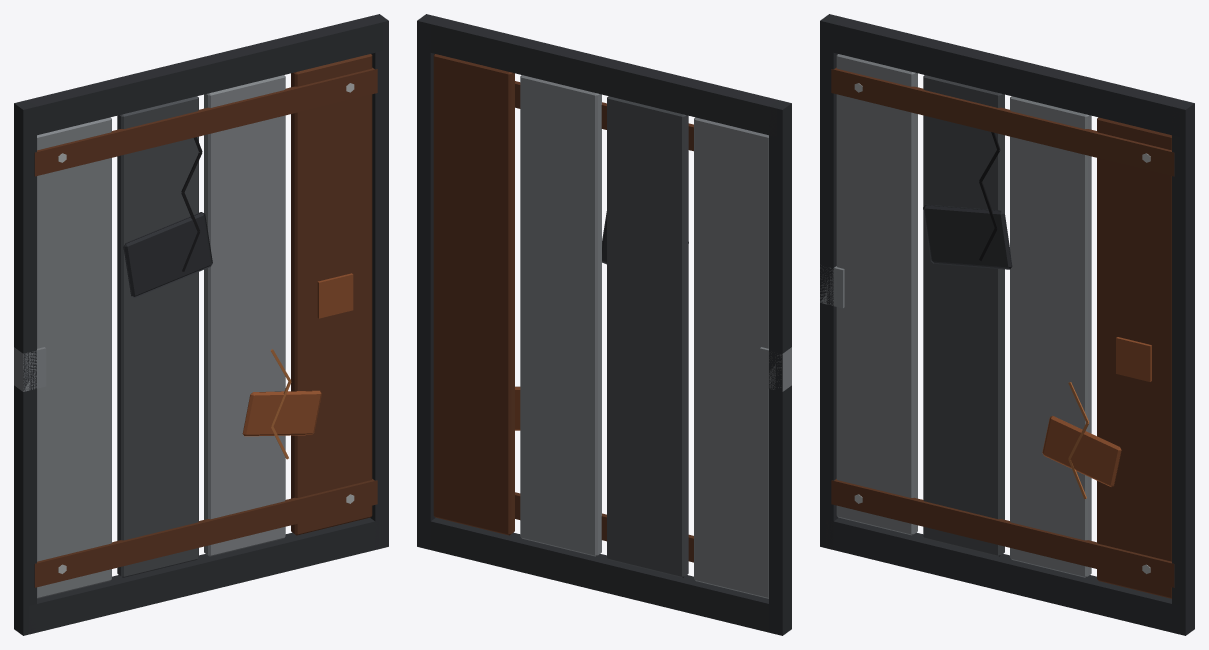
Rendered from piece_door_steel_damaged.fbx.
3 views of the same model, side by side, from view 1: azimuth 30°, elevation 25°; view 2: azimuth 150°, elevation 25°; view 3: azimuth 330°, elevation 25° (orthographic).
Visible parts, largest first — view 1: piece_door_steel_damaged; view 2: piece_door_steel_damaged; view 3: piece_door_steel_damaged.
Boxes of the visible parts, left/top/right/bottom form: piece_door_steel_damaged: left=14, top=14, right=388, bottom=635; piece_door_steel_damaged: left=417, top=14, right=791, bottom=635; piece_door_steel_damaged: left=820, top=14, right=1194, bottom=635.
Size of the model in its own units: 1.6 by 2.2 by 0.073.
